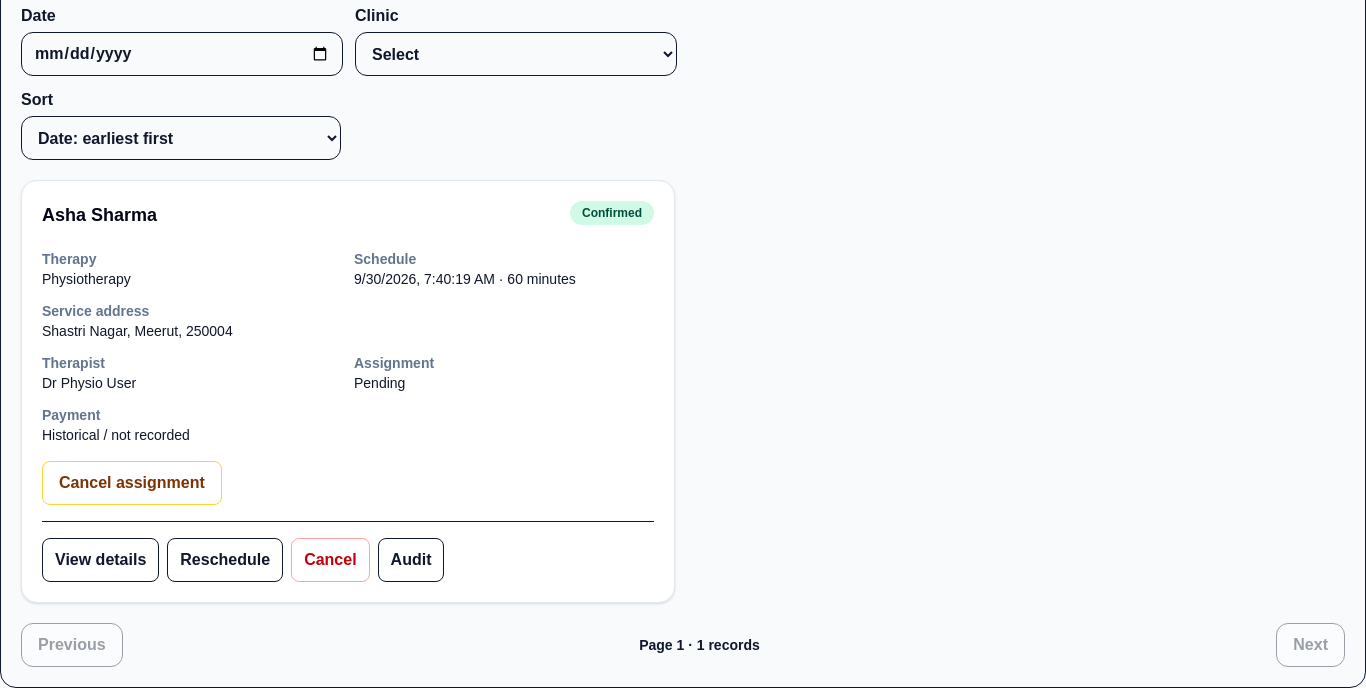
Test case: operational scheduling › offers lifecycle controls and canonical appointment details
(page scrolled)
Expected: the button "Reschedule" is shown, [167, 538, 283, 582]
Expected: the button "Cancel assignment" is shown, [42, 461, 222, 505]
Click the button "View details": (101,560) [42, 538, 159, 582]
(page scrolled)
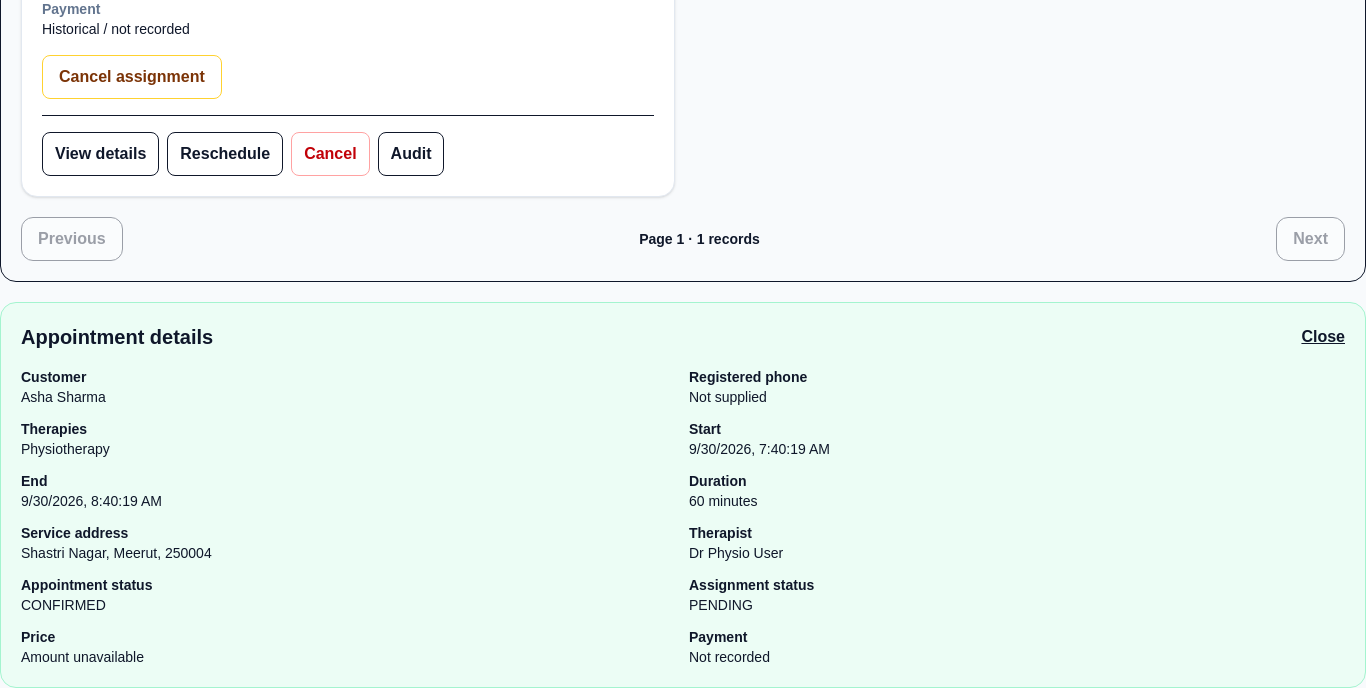
Expected: the element "Appointment details" shows "Asha Sharma", [21, 389, 106, 405]
Expected: the element "Appointment details" shows "Shastri Nagar", [21, 545, 212, 561]
Click the button "Close": (1323,337) [1301, 323, 1345, 351]
(page scrolled)
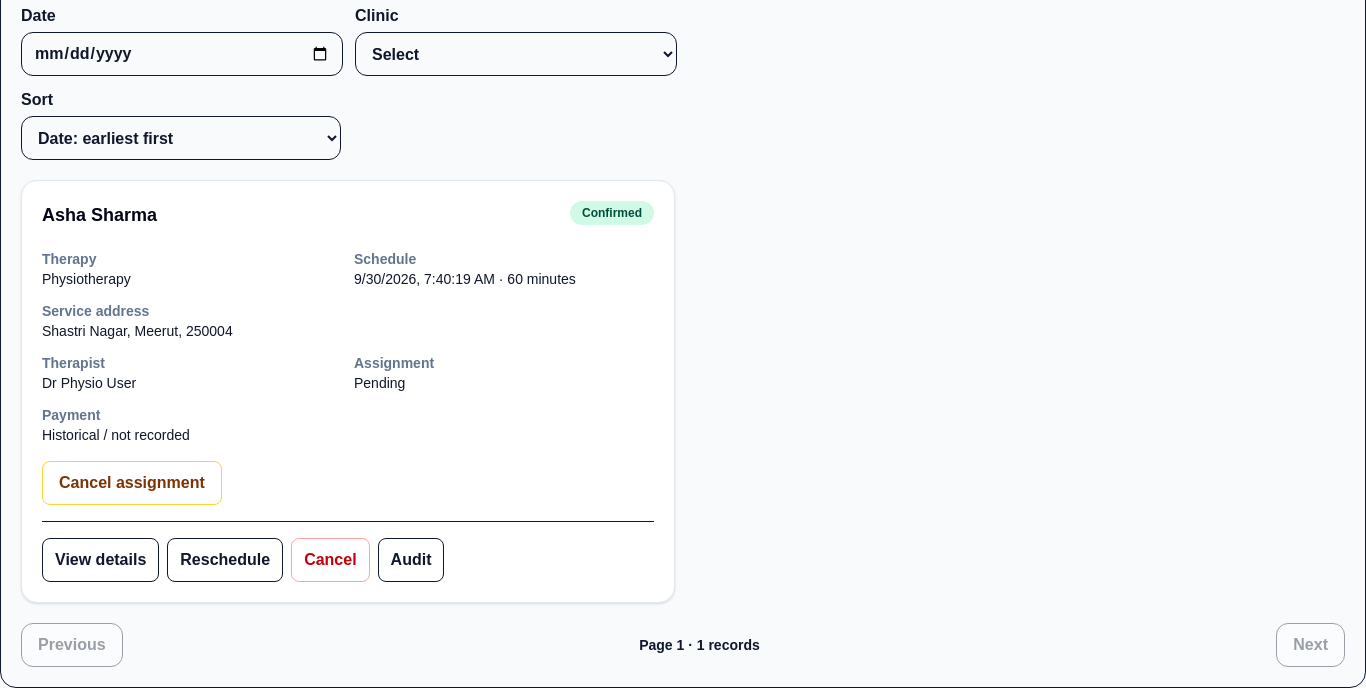
Click the button "Cancel": (330,560) [291, 538, 370, 582]
(page scrolled)
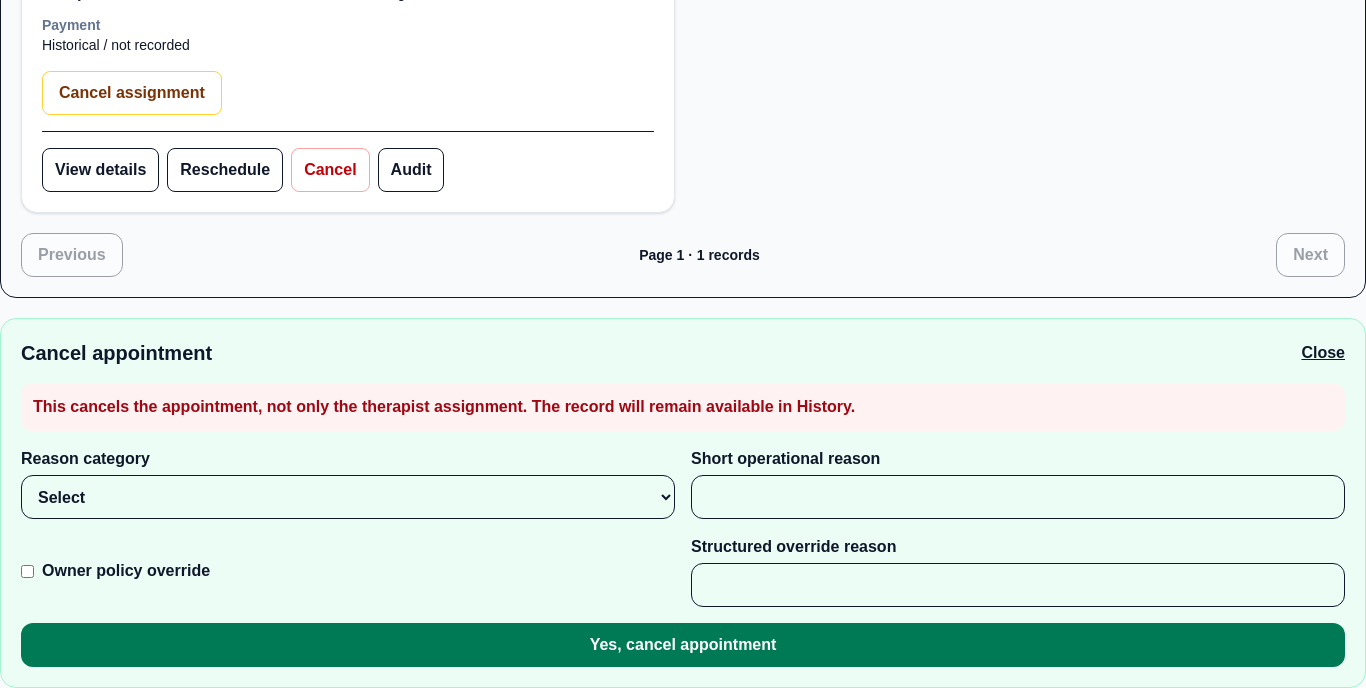
Expected: the dropdown labelled "Reason category" is shown, [21, 475, 675, 519]
Expected: the checkbox labelled "Owner policy override" is shown, [21, 564, 34, 578]
